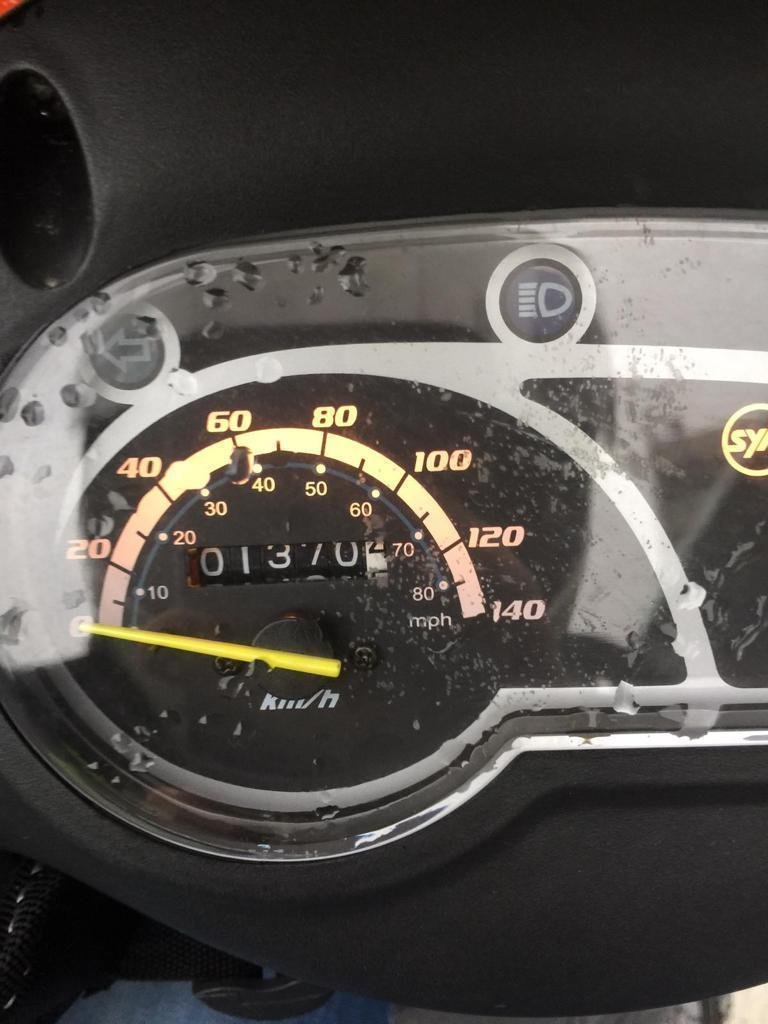0: (199, 545, 227, 580), (333, 539, 363, 571), (185, 528, 196, 544)
1: (236, 542, 254, 579)
3: (265, 539, 293, 571)
4: (367, 535, 392, 563)
7: (301, 538, 326, 565)
odometer: (183, 534, 394, 591)
